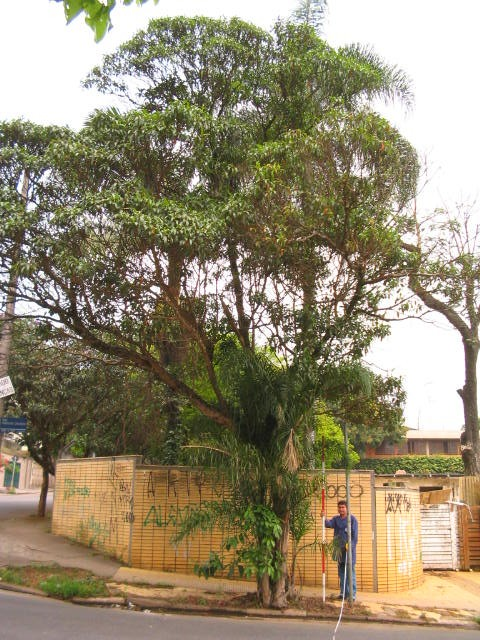crown: (4, 16, 424, 434)
stem: (237, 454, 309, 610), (450, 330, 478, 475)
stick: (310, 436, 335, 601)
tree: (1, 15, 427, 612), (400, 211, 480, 477), (6, 330, 115, 518)
